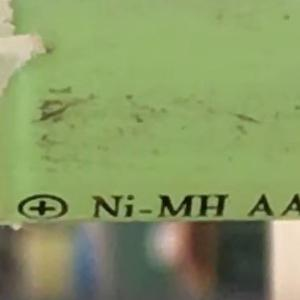NI-MH: (59, 184, 238, 240)
